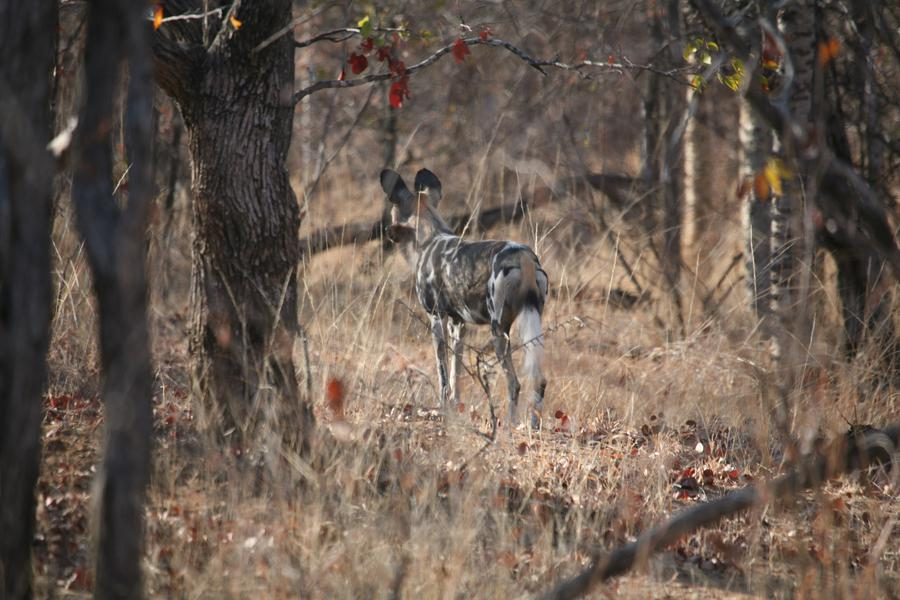wilddog: (378, 167, 552, 406)
